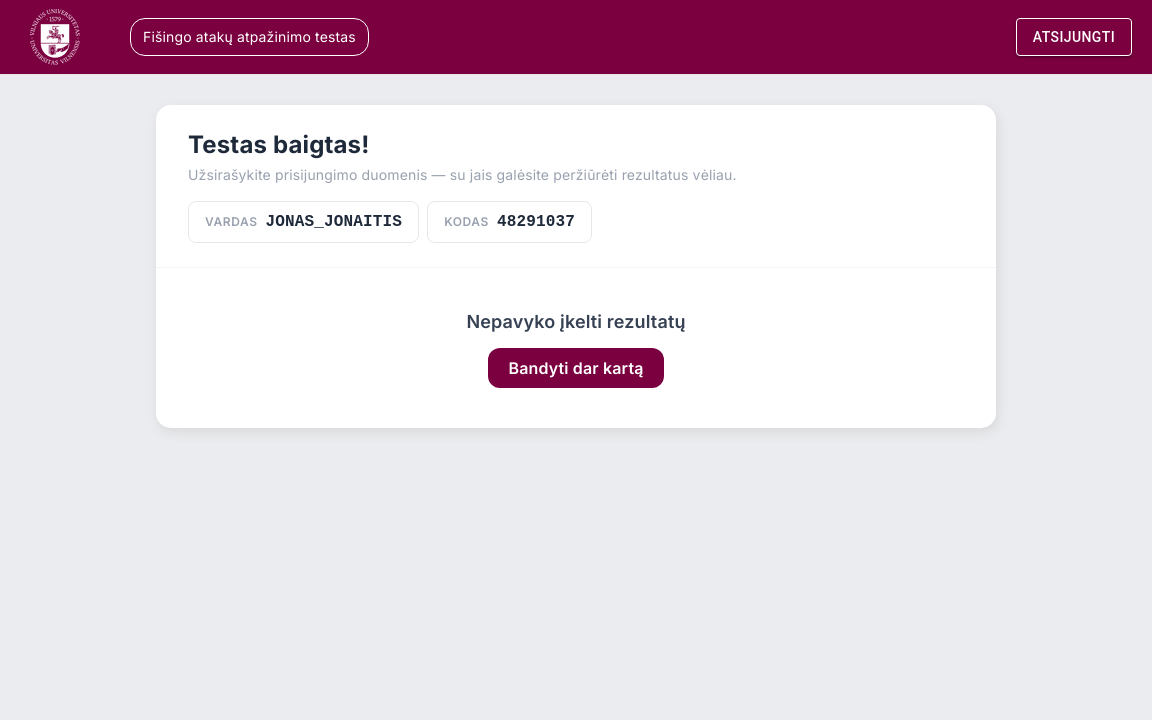
it: TestFinish — a failed record load › 'Bandyti dar kartą' asks for the record again and shows the results once it arrives
This screenshot has width=1152, height=720.
Click the button "Bandyti dar kartą": (576, 368) [488, 348, 664, 388]
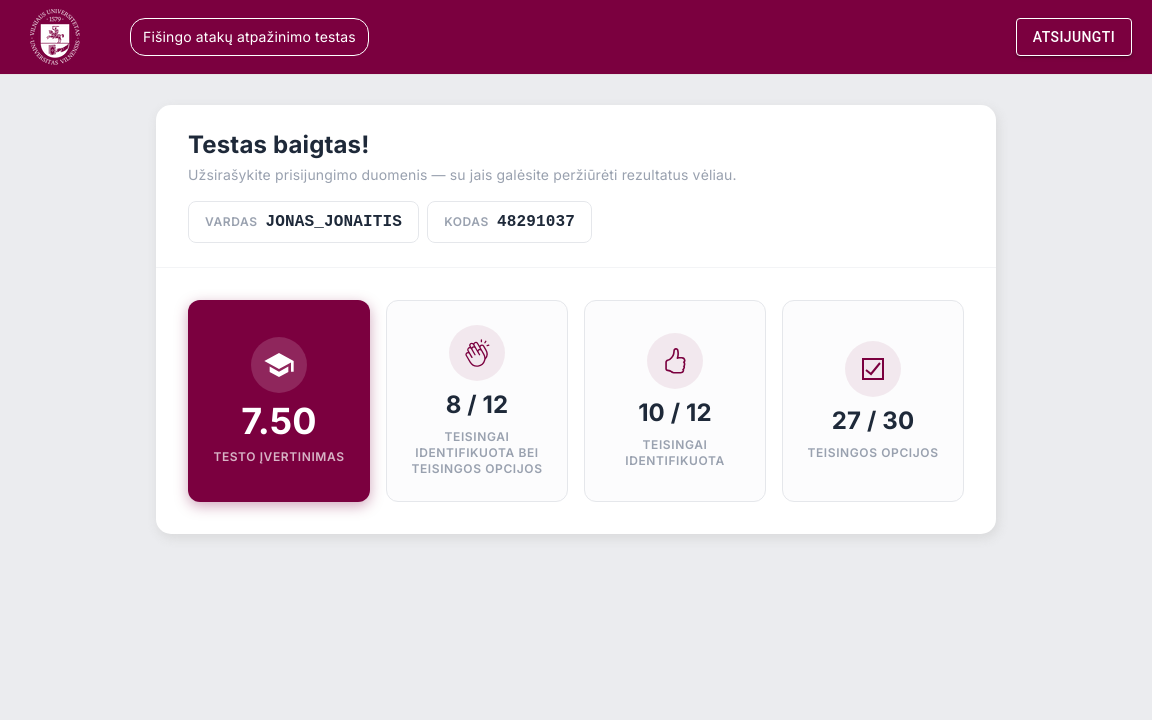
expect the message "Nepavyko įkelti rezultatų Bandyti dar kartą" is gone: met
